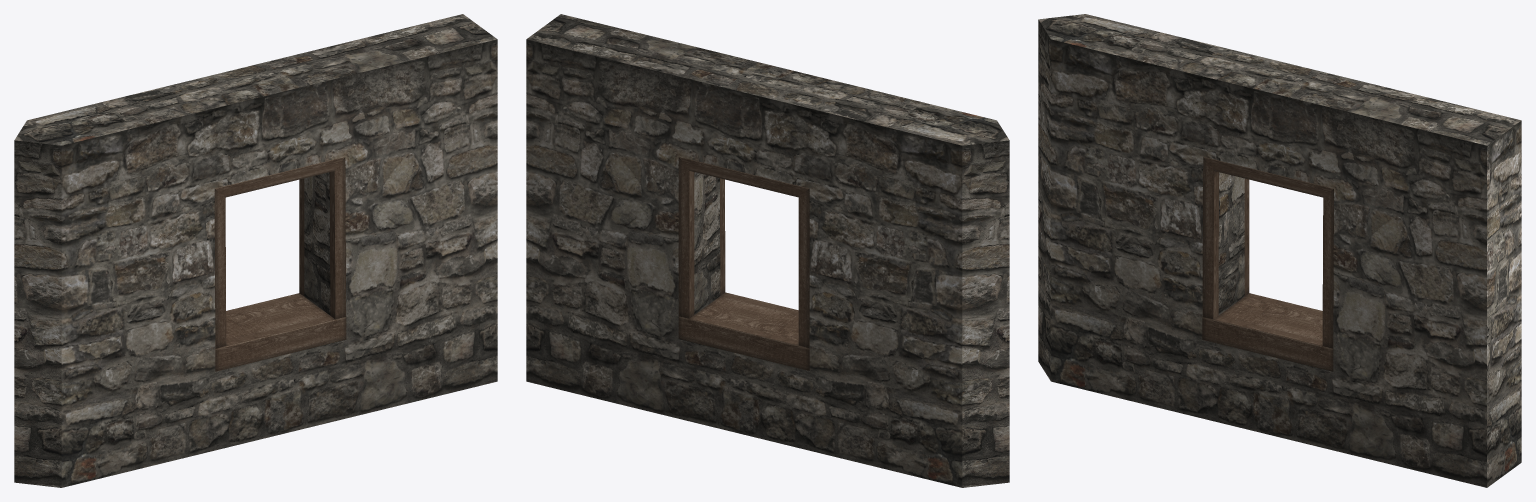
Rendered from House_Stone_Window_Plain_Upper.dae.
3 views of the same model, side by side, from view 1: azimuth 30°, elevation 25°; view 2: azimuth 150°, elevation 25°; view 3: azimuth 330°, elevation 25° (orthographic).
Visible parts, largest first — view 1: StoneWindowPlainUpper; view 2: StoneWindowPlainUpper; view 3: StoneWindowPlainUpper.
Boxes of the visible parts, bbox=[...] form: StoneWindowPlainUpper: bbox=[14, 14, 497, 487]; StoneWindowPlainUpper: bbox=[526, 14, 1009, 487]; StoneWindowPlainUpper: bbox=[1038, 14, 1521, 487].
Size of the model in its own units: 4.28 by 3.08 by 0.5732.
1 material, 1 textured.
